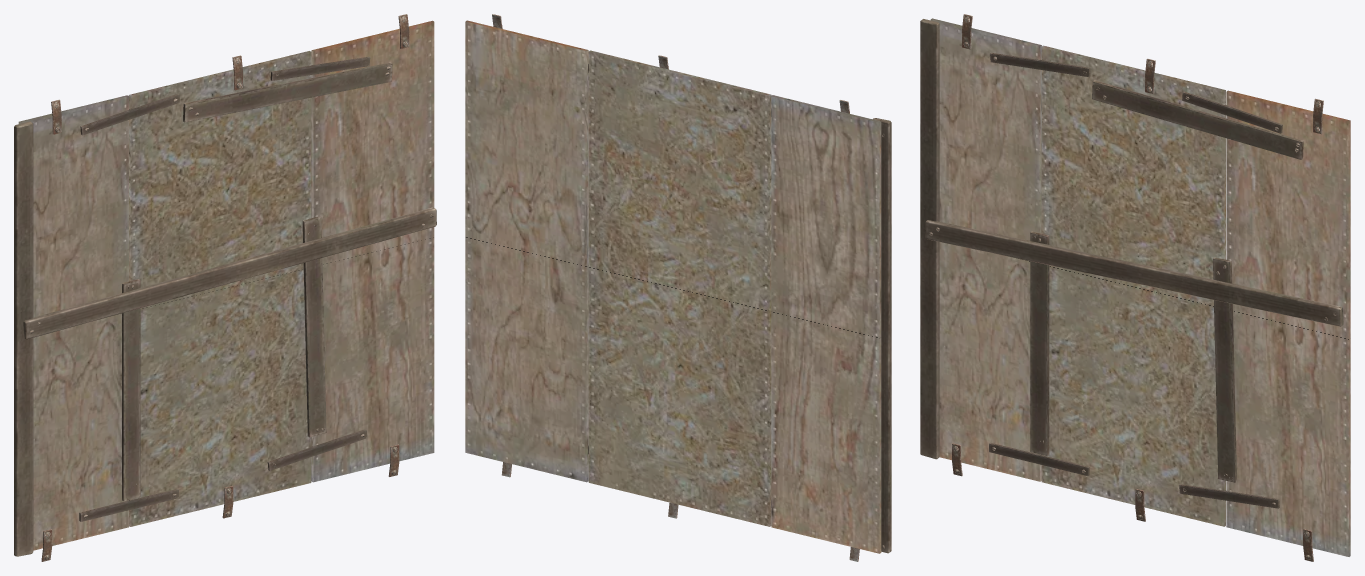
Rendered from plywood_boarding_300_c_mossy.glb.
The picture shows the model from 3 angles, left to right: view 1: azimuth 30°, elevation 25°; view 2: azimuth 150°, elevation 25°; view 3: azimuth 330°, elevation 25°; orthographic projection.
Visible parts, largest first — view 1: plywood_boarding_300_c_mossy; view 2: plywood_boarding_300_c_mossy; view 3: plywood_boarding_300_c_mossy.
Part boxes in pixels (x1,y1,x2,y2): plywood_boarding_300_c_mossy: [14, 14, 436, 561]; plywood_boarding_300_c_mossy: [465, 14, 891, 561]; plywood_boarding_300_c_mossy: [920, 14, 1350, 561].
Bounding box in the file's own units: 3.04 × 3.17 × 0.0891.
Materials: 1 (1 with a texture image).
